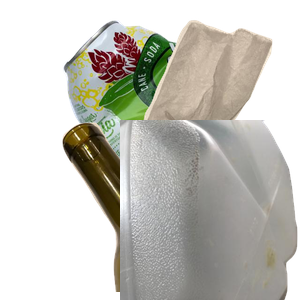glass: (60, 120, 300, 300)
metal: (60, 18, 300, 198)
plastic: (120, 120, 300, 300)
trash: (132, 17, 300, 177)
